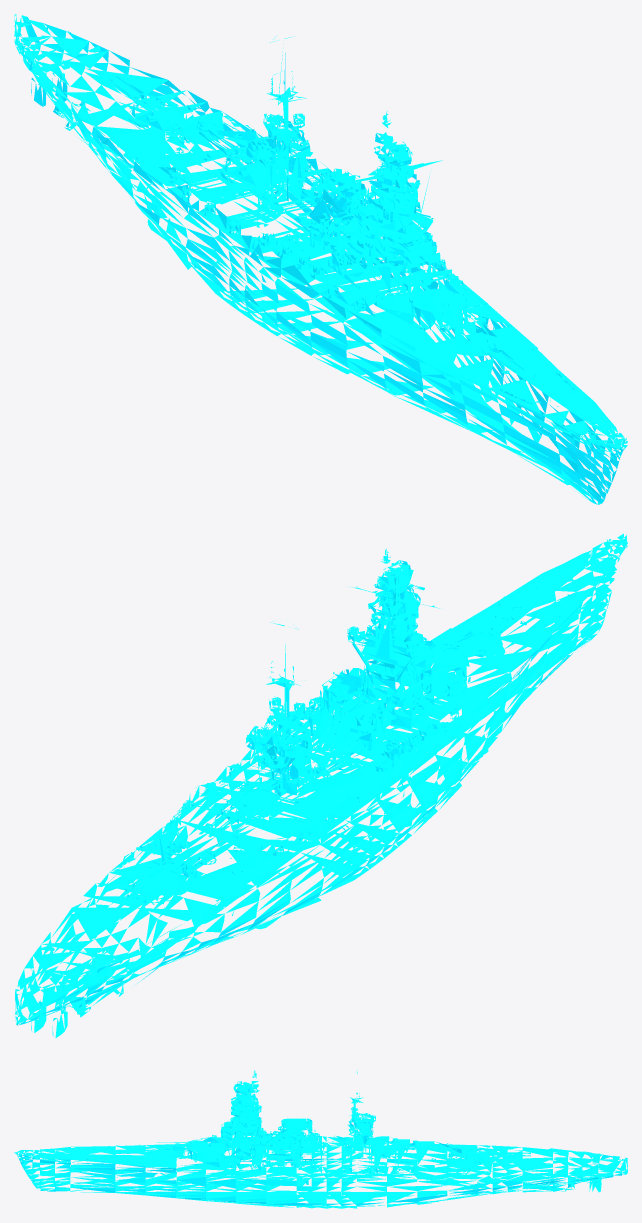
File: PJSB719.glb
3 views of the same model, one above another, from view 1: azimuth 30°, elevation 25°; view 2: azimuth 150°, elevation 25°; view 3: azimuth 270°, elevation 25° (orthographic). The views are drawn at different scales.
Visible parts, largest first — view 1: hull_mid, hull_bow, hull_stern, main_battery, secondary_battery, aa_mount; view 2: hull_mid, hull_stern, hull_bow, main_battery, secondary_battery, aa_mount; view 3: hull_mid, hull_bow, hull_stern, main_battery, secondary_battery, aa_mount.
Boxes of the visible parts, <box> form: hull_mid: <box>120,36,501,395</box>; hull_bow: <box>380,304,627,504</box>; hull_stern: <box>14,14,256,218</box>; main_battery: <box>106,74,525,373</box>; secondary_battery: <box>161,125,467,312</box>; aa_mount: <box>165,117,462,302</box>; hull_mid: <box>123,559,494,935</box>; hull_stern: <box>14,850,260,1038</box>; hull_bow: <box>390,533,627,761</box>; main_battery: <box>106,610,525,918</box>; secondary_battery: <box>160,679,467,858</box>; aa_mount: <box>166,669,462,861</box>; hull_mid: <box>184,1069,466,1208</box>; hull_bow: <box>14,1144,205,1200</box>; hull_stern: <box>447,1144,627,1200</box>; main_battery: <box>119,1135,530,1161</box>; secondary_battery: <box>219,1117,430,1171</box>; aa_mount: <box>217,1130,456,1166</box>.
Bounding box in the file's own units: 2.47 × 3.83 × 17.11.
